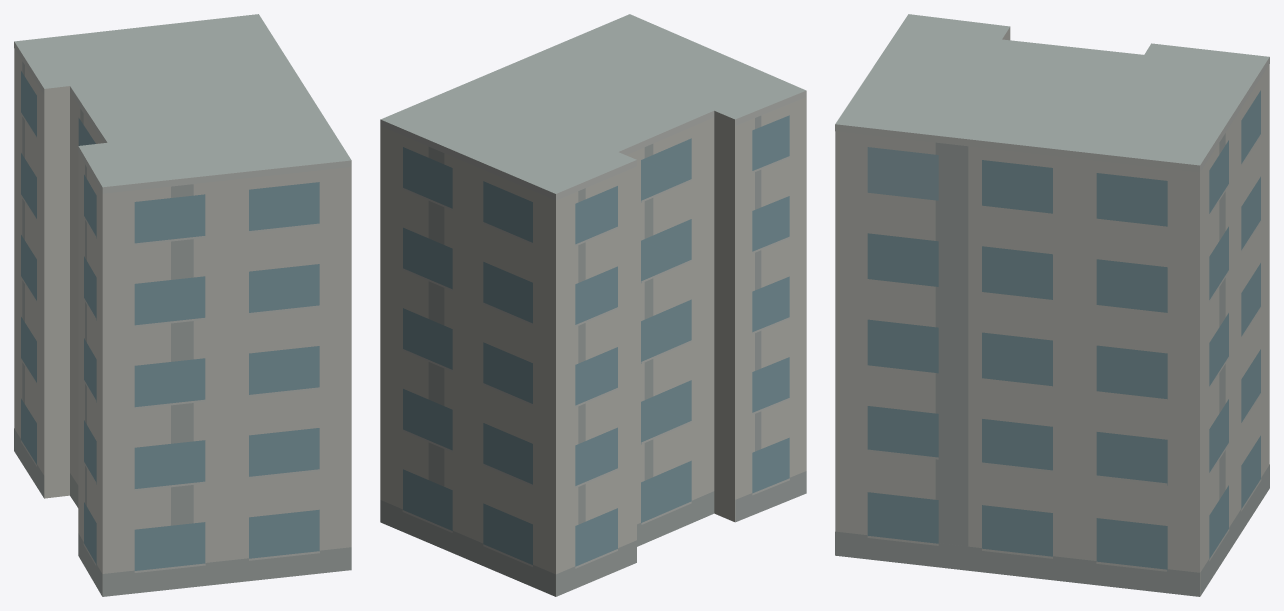
The model's file is survey-upis-32990473.glb.
3 renders of one model, left to right at view 1: azimuth 30°, elevation 25°; view 2: azimuth 150°, elevation 25°; view 3: azimuth 270°, elevation 25°, orthographic. The views are drawn at different scales.
Parts seen in each view (by area): view 1: survey-upis-32990473.tmp; view 2: survey-upis-32990473.tmp; view 3: survey-upis-32990473.tmp.
Part boxes in pixels (x1,y1,x2,y2): survey-upis-32990473.tmp: [14, 14, 351, 596]; survey-upis-32990473.tmp: [380, 14, 806, 596]; survey-upis-32990473.tmp: [835, 14, 1269, 596].
Bounding box in the file's own units: 11.27 × 14.95 × 13.66.
